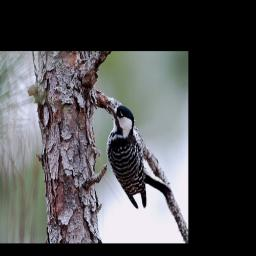Woodpecker: (104, 101, 172, 210)
